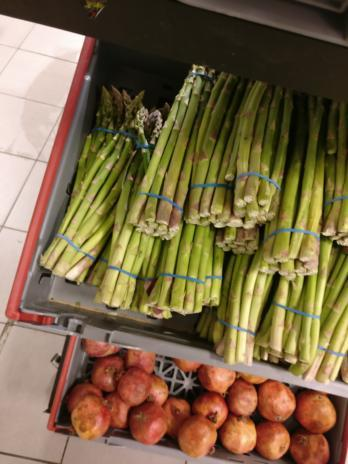Asparagus: (172, 71, 347, 360), (66, 90, 195, 316)
